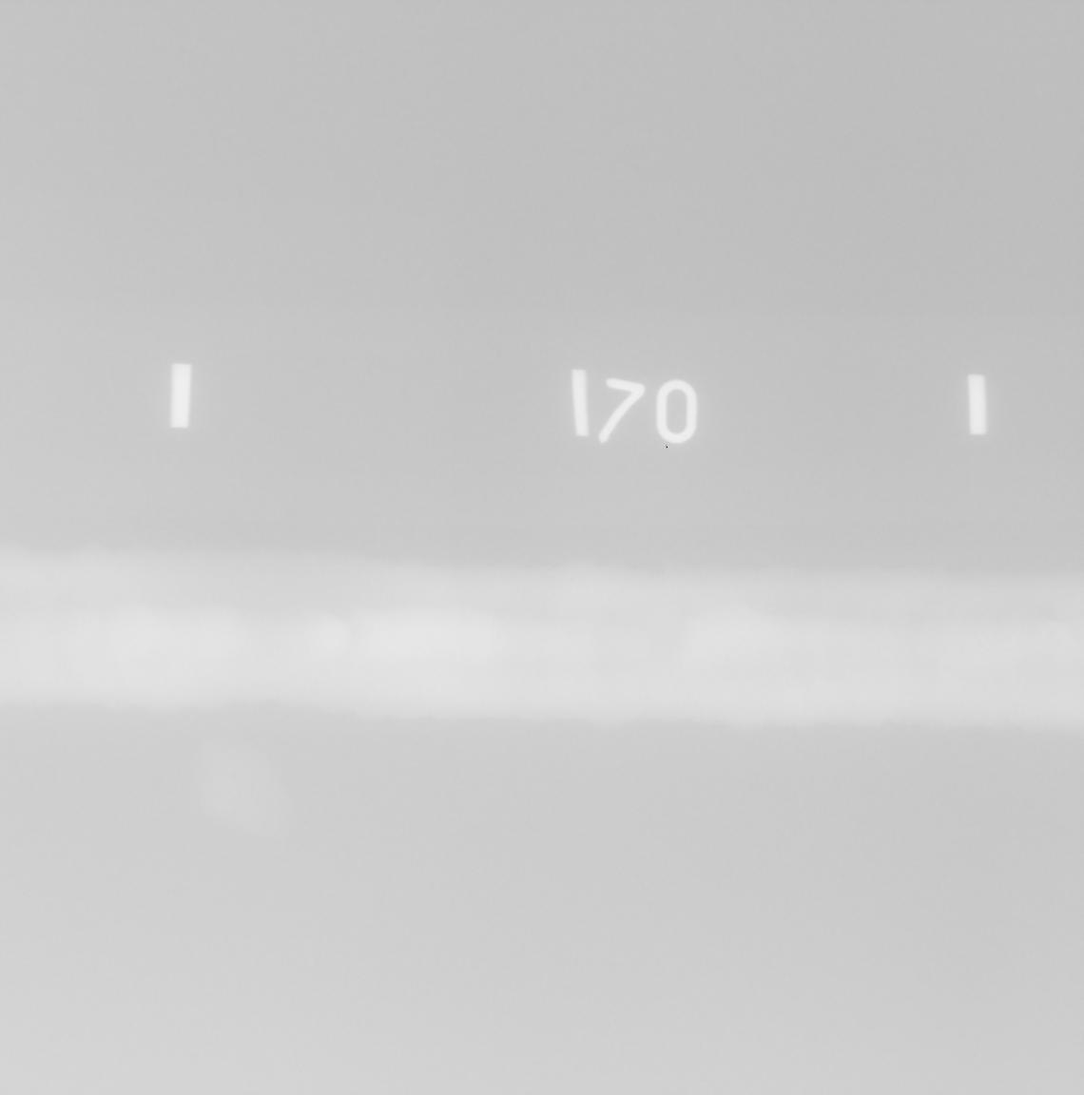Pore/Porosity: (978, 643, 985, 648), (1008, 649, 1012, 653), (959, 649, 963, 652), (1055, 640, 1059, 643)
